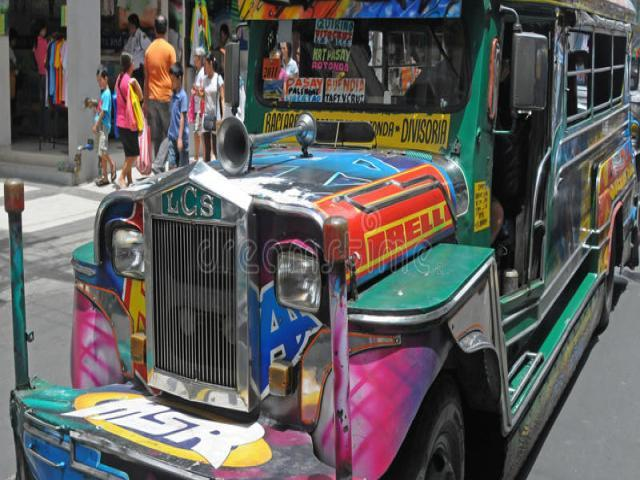jeepney: (16, 0, 639, 480)
